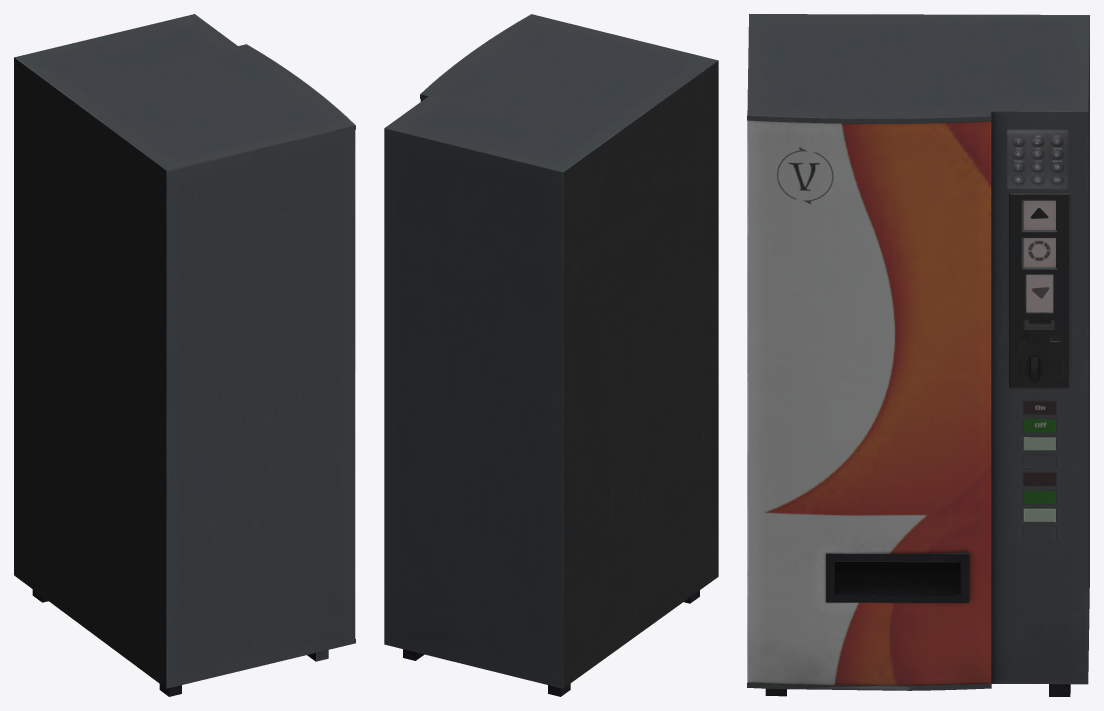
Rendered from VendingMachine.fbx.
The picture shows the model from 3 angles, left to right: view 1: azimuth 30°, elevation 25°; view 2: azimuth 150°, elevation 25°; view 3: azimuth 270°, elevation 25°; orthographic projection. The views are drawn at different scales.
Visible parts, largest first — view 1: VendingMachine; view 2: VendingMachine; view 3: VendingMachine.
Part boxes in pixels (box(x1,y1,x2,y2)): VendingMachine: box(14, 14, 355, 696); VendingMachine: box(384, 14, 718, 696); VendingMachine: box(747, 14, 1089, 696).
Size of the model in its own units: 75.66 by 199 by 105.
